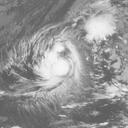cyclone: (16, 32, 85, 98), (84, 14, 118, 45)
